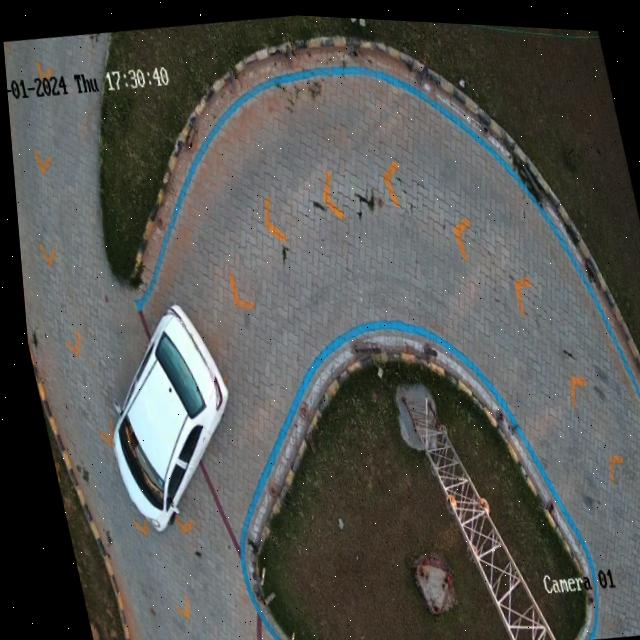car: (105, 303, 222, 533)
